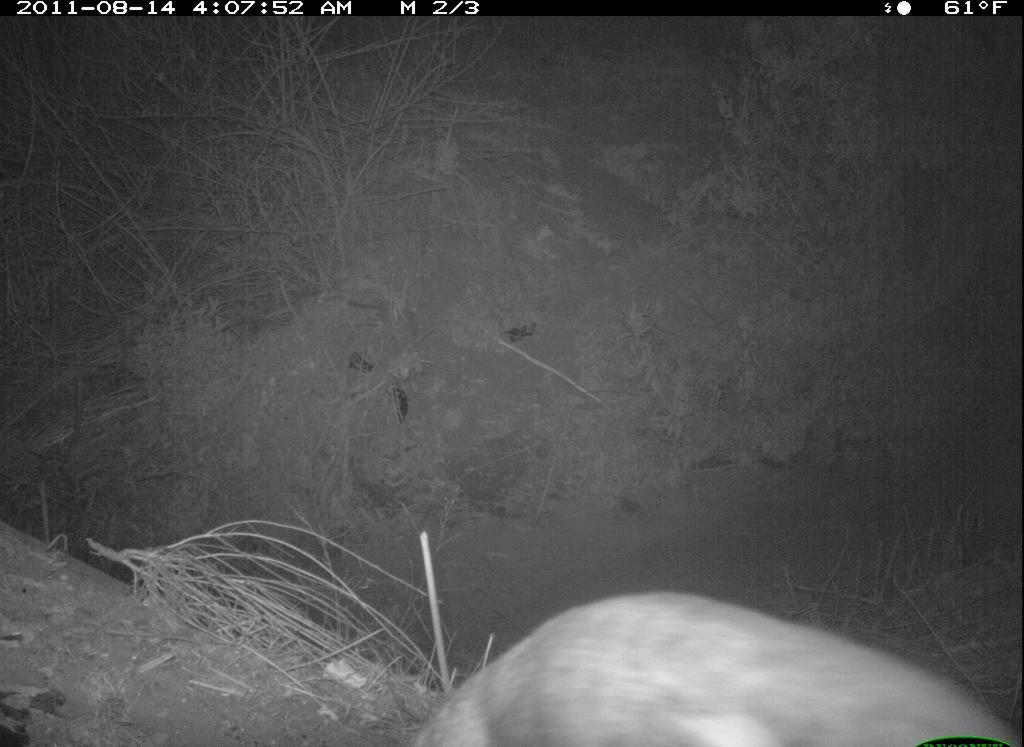cat: (409, 584, 1019, 747)
